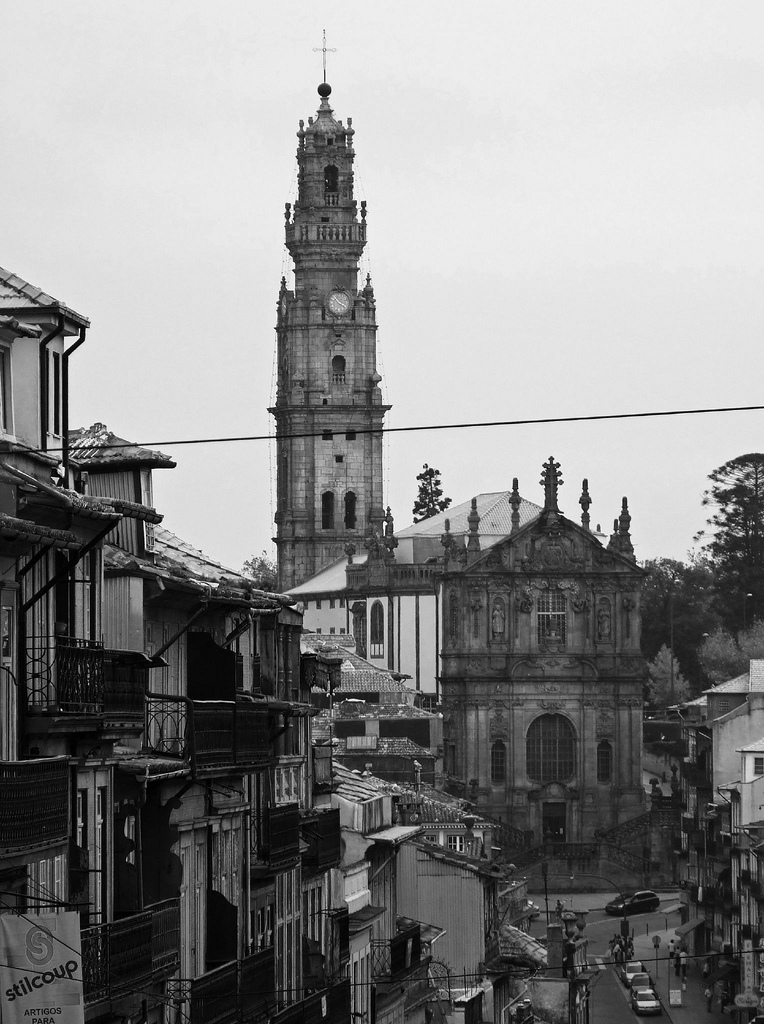clerigos: (266, 25, 393, 596)
